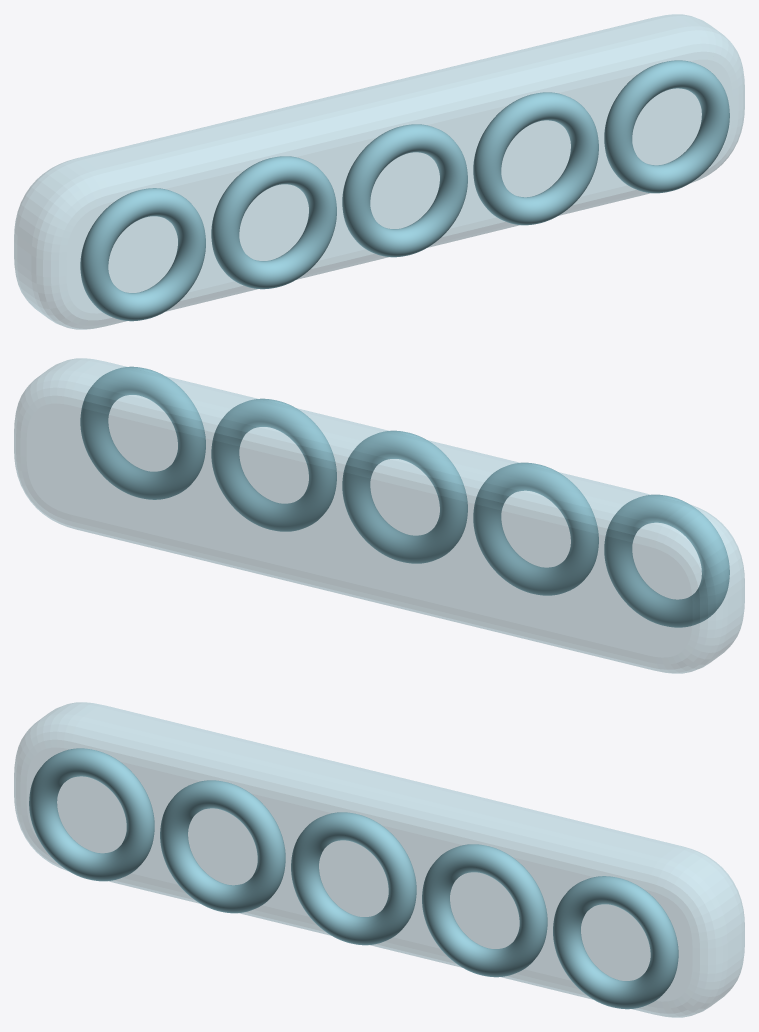
3 views of the same model, one above another, from view 1: azimuth 30°, elevation 25°; view 2: azimuth 150°, elevation 25°; view 3: azimuth 330°, elevation 25° (orthographic).
Visible parts, largest first — view 1: modular-rail, socket-2, socket-4, socket-3, socket-0, socket-1; view 2: modular-rail, socket-0, socket-1, socket-2, socket-3, socket-4; view 3: modular-rail, socket-2, socket-0, socket-1, socket-3, socket-4.
Boxes of the visible parts, x1,y1,x2,y2 form: modular-rail: (14, 14, 744, 329); socket-2: (342, 124, 467, 257); socket-4: (604, 60, 729, 193); socket-3: (473, 92, 598, 225); socket-0: (80, 188, 205, 321); socket-1: (211, 156, 336, 289); modular-rail: (14, 358, 744, 673); socket-0: (604, 494, 729, 627); socket-1: (473, 462, 598, 595); socket-2: (342, 430, 467, 563); socket-3: (211, 398, 336, 531); socket-4: (80, 366, 205, 499); modular-rail: (14, 702, 744, 1017); socket-2: (291, 812, 416, 945); socket-0: (29, 748, 154, 881); socket-1: (160, 780, 285, 913); socket-3: (422, 844, 547, 977); socket-4: (553, 876, 678, 1009).
Bounding box in the file's own units: 3.2 × 0.67 × 0.41.
